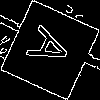A: (25, 25, 82, 75)
